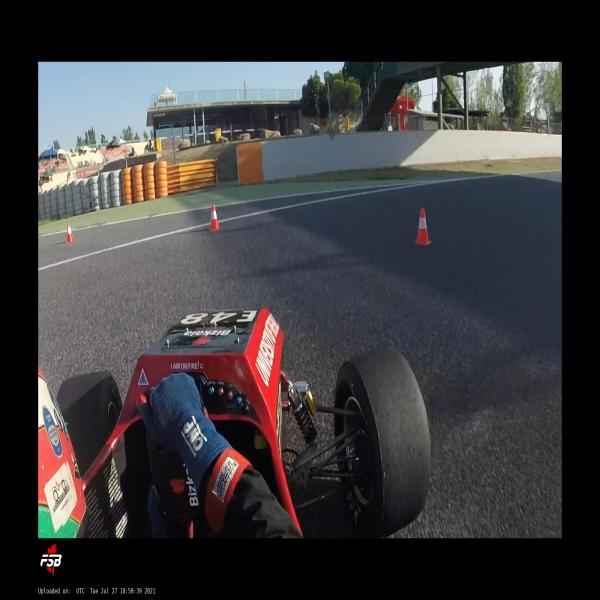orange_cone: (414, 209, 431, 245), (209, 205, 220, 232), (66, 223, 75, 243)
